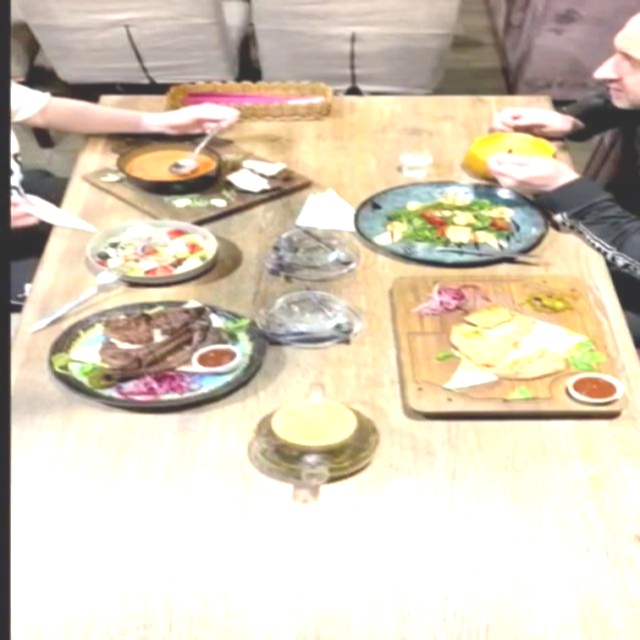meat: (379, 269, 634, 414), (49, 299, 269, 406)
salad: (356, 181, 552, 264), (84, 219, 219, 284)
soup: (81, 139, 315, 226), (463, 132, 556, 180)
tea: (234, 369, 385, 507)
